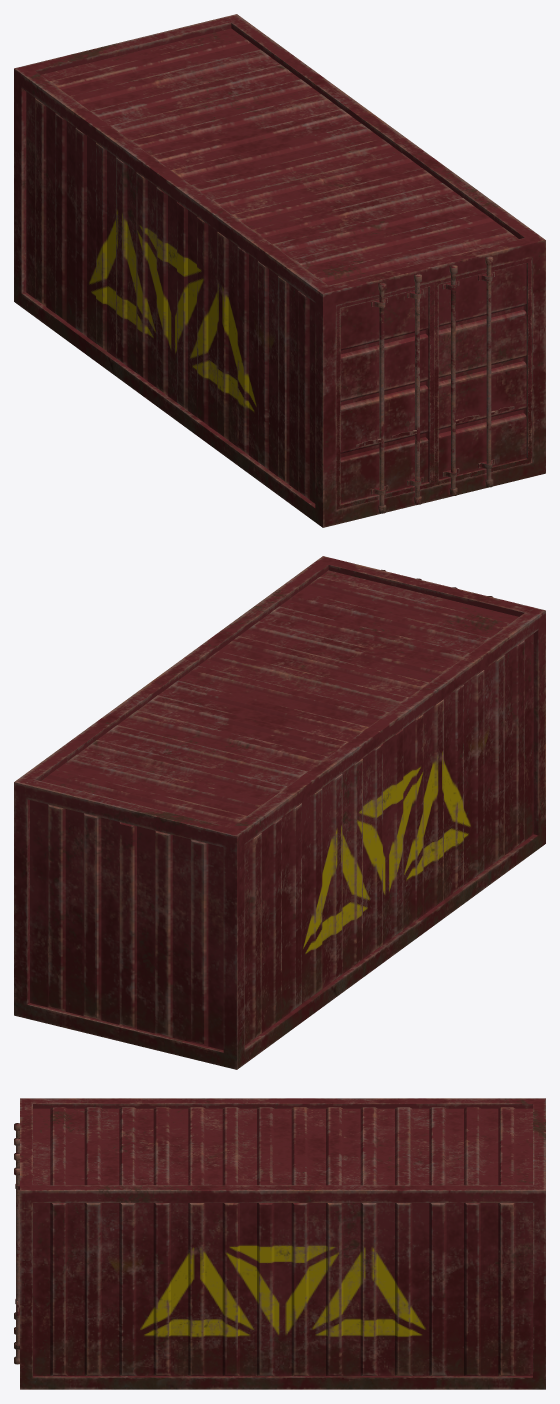
The model's file is container.glb.
3 views of the same model, one above another, from view 1: azimuth 30°, elevation 25°; view 2: azimuth 150°, elevation 25°; view 3: azimuth 270°, elevation 25° (orthographic). The views are drawn at different scales.
Parts seen in each view (by area): view 1: presentation_sourced_container; view 2: presentation_sourced_container; view 3: presentation_sourced_container.
Part boxes in pixels (x1,y1,x2,y2): presentation_sourced_container: [14, 14, 545, 527]; presentation_sourced_container: [14, 556, 545, 1069]; presentation_sourced_container: [14, 1098, 545, 1389].
Size of the model in its own units: 2.5 by 2.5 by 6.06.
1 material, 1 textured.
